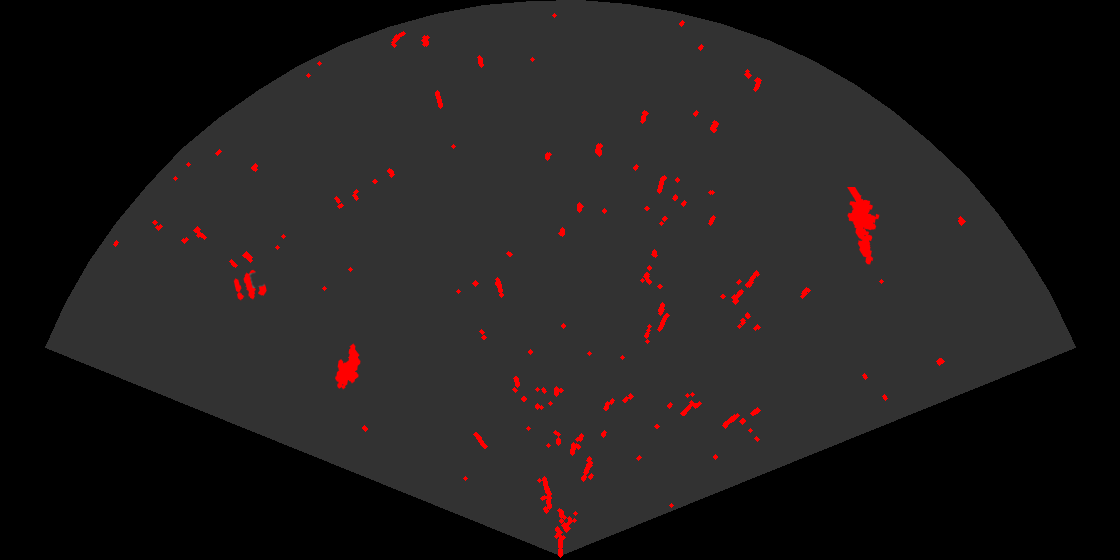AUV: (334, 342, 362, 391)
ball: (232, 268, 268, 302)
frogman: (846, 187, 881, 266)
